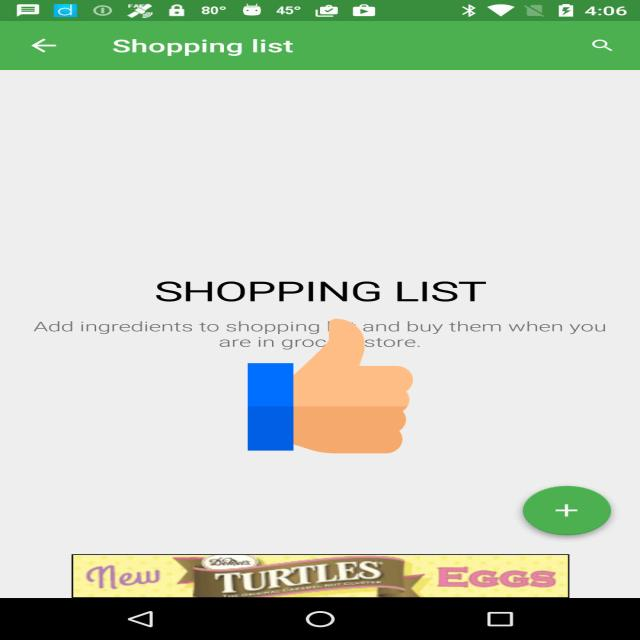privacy zuckering: (248, 315, 413, 457)
